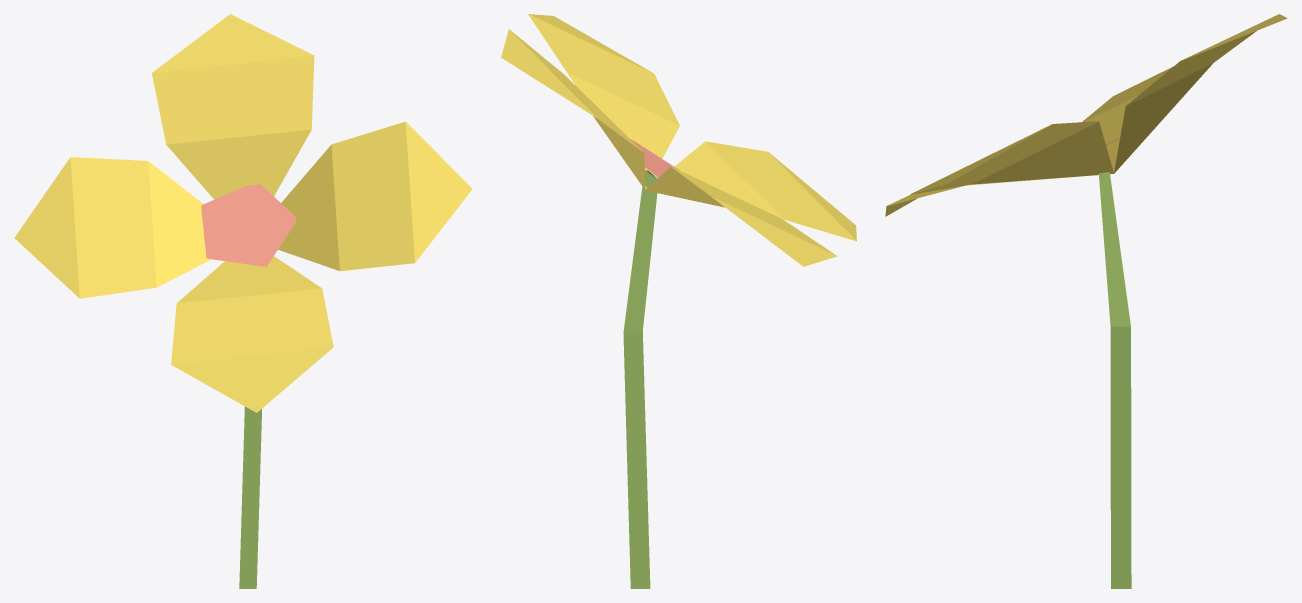
File: Flower_d_TwoS_03.fbx
The picture shows the model from 3 angles, left to right: view 1: azimuth 30°, elevation 25°; view 2: azimuth 150°, elevation 25°; view 3: azimuth 270°, elevation 25°; orthographic projection. The views are drawn at different scales.
Parts seen in each view (by area): view 1: Flower_d_TwoS_03; view 2: Flower_d_TwoS_03; view 3: Flower_d_TwoS_03.
Part boxes in pixels (bbox=[...]): Flower_d_TwoS_03: bbox=[14, 14, 472, 588]; Flower_d_TwoS_03: bbox=[501, 14, 856, 588]; Flower_d_TwoS_03: bbox=[885, 14, 1287, 588].
Bounding box in the file's own units: 0.2183 × 0.3116 × 0.1897.
